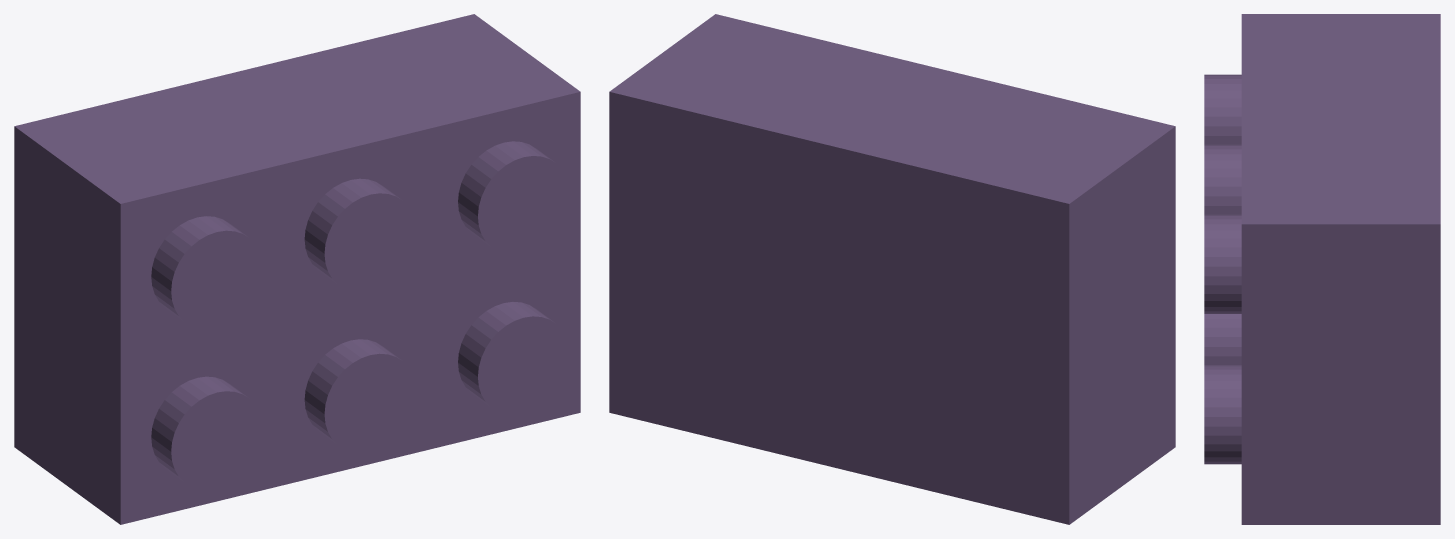
The model's file is brick_5.glb.
3 renders of one model, left to right at view 1: azimuth 30°, elevation 25°; view 2: azimuth 150°, elevation 25°; view 3: azimuth 270°, elevation 25°, orthographic. The views are drawn at different scales.
Parts seen in each view (by area): view 1: world; view 2: world; view 3: world.
Boxes of the visible parts, x1,y1,x2,y2 form: world: [14, 14, 580, 524]; world: [609, 14, 1175, 524]; world: [1204, 14, 1440, 524].
Size of the model in its own units: 24 by 16 by 11.4.
